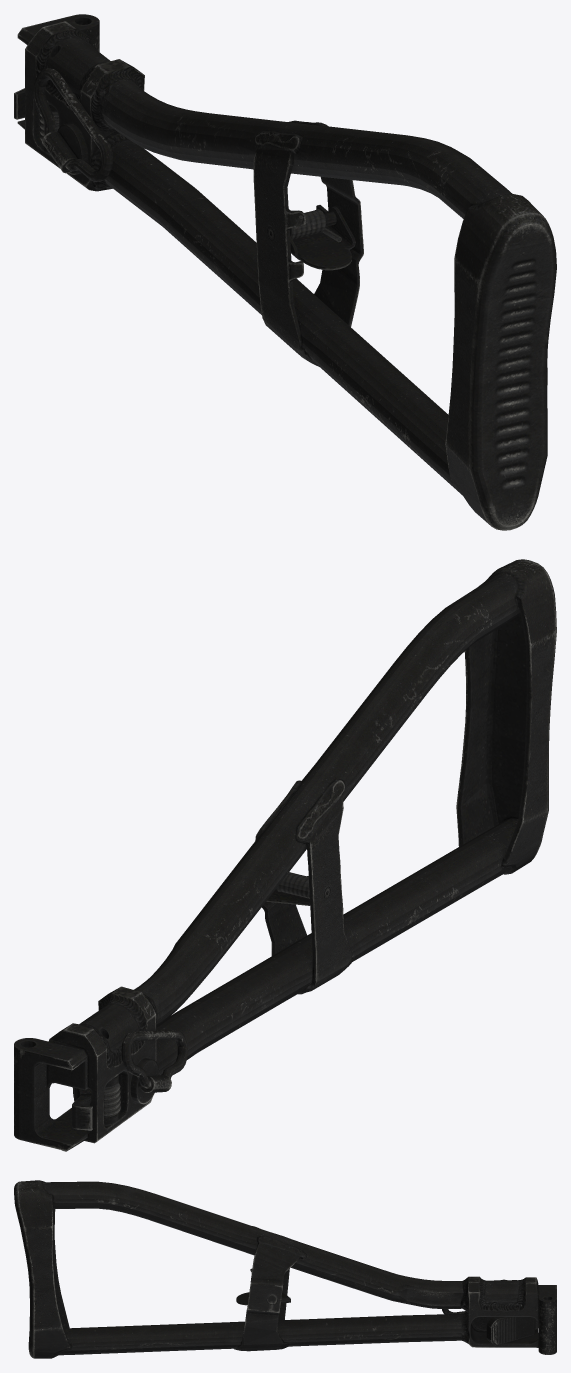
3 renders of one model, top to bottom at view 1: azimuth 30°, elevation 25°; view 2: azimuth 150°, elevation 25°; view 3: azimuth 270°, elevation 25°, orthographic. The views are drawn at different scales.
Parts seen in each view (by area): view 1: TW_57c450252459772d28133253_PZ_Import; view 2: TW_57c450252459772d28133253_PZ_Import; view 3: TW_57c450252459772d28133253_PZ_Import.
Boxes of the visible parts, x1,y1,x2,y2 form: TW_57c450252459772d28133253_PZ_Import: (14,14,556,530); TW_57c450252459772d28133253_PZ_Import: (14,559,556,1151); TW_57c450252459772d28133253_PZ_Import: (14,1180,556,1358).
Size of the model in its own units: 0.0207 by 0.1659 by 0.0591.
1 material, 1 textured.
